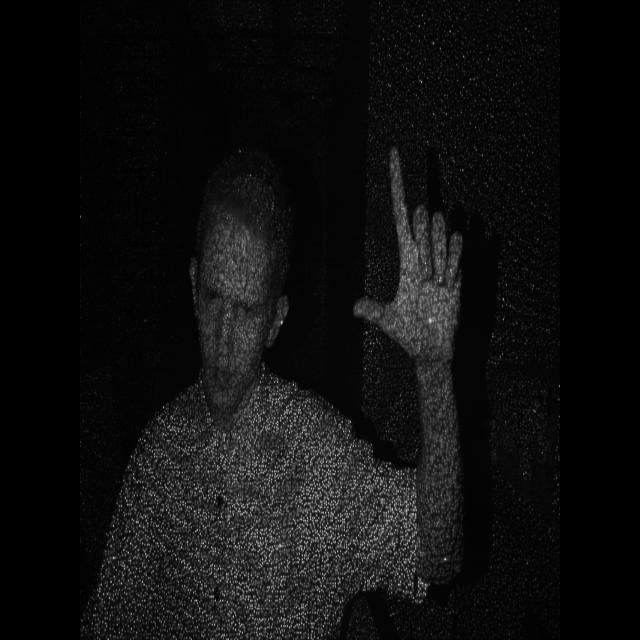L: (344, 130, 464, 360)
